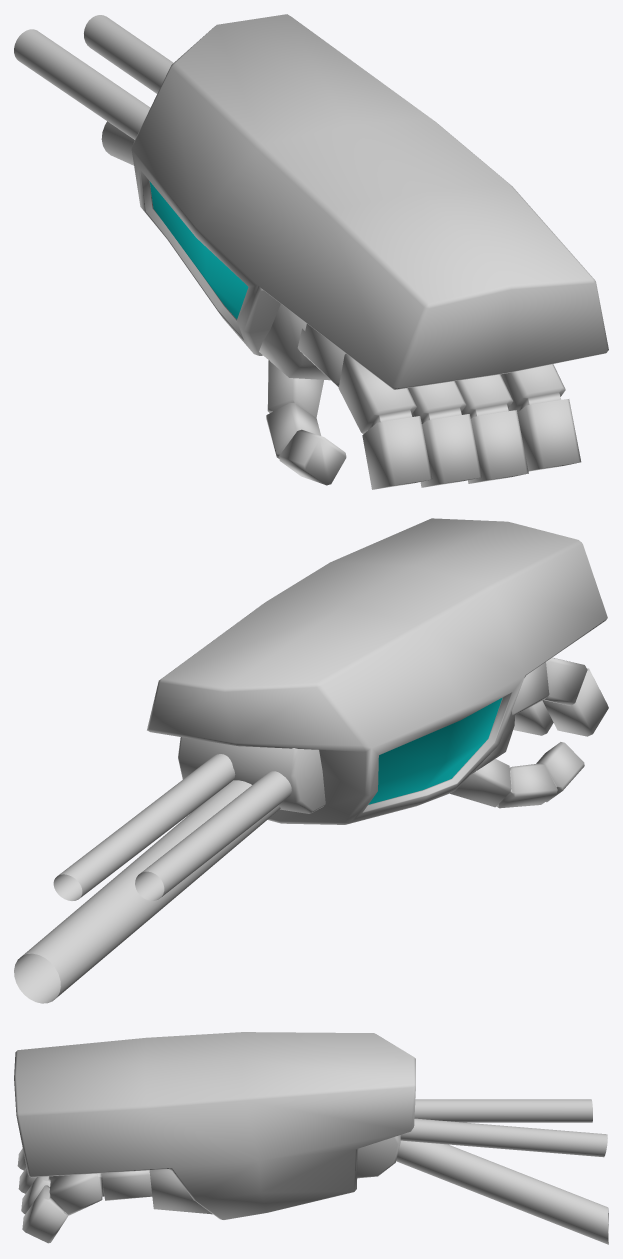
The model's file is Tank_Arm_Left.fbx.
3 views of the same model, one above another, from view 1: azimuth 30°, elevation 25°; view 2: azimuth 150°, elevation 25°; view 3: azimuth 270°, elevation 25° (orthographic). The views are drawn at different scales.
Visible parts, largest first — view 1: mesh_tank_robot_Arm_Left; view 2: mesh_tank_robot_Arm_Left; view 3: mesh_tank_robot_Arm_Left.
Part boxes in pixels (bbox=[...]): mesh_tank_robot_Arm_Left: bbox=[14, 14, 608, 489]; mesh_tank_robot_Arm_Left: bbox=[14, 518, 608, 1003]; mesh_tank_robot_Arm_Left: bbox=[14, 1032, 608, 1244].
Size of the model in its own units: 164 by 150 by 481.
